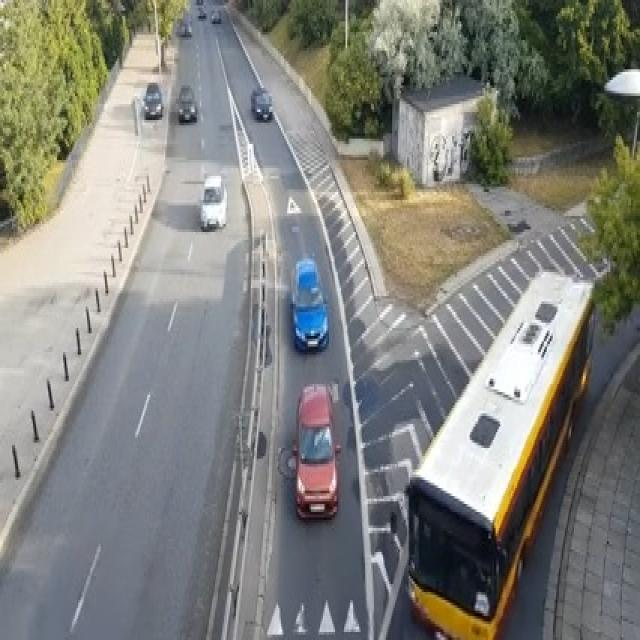bus: (404, 267, 597, 637)
car: (290, 381, 341, 520), (290, 256, 329, 352), (200, 173, 227, 230), (176, 82, 197, 122), (249, 85, 272, 120), (143, 80, 162, 117), (175, 13, 192, 35), (210, 8, 221, 21), (197, 5, 206, 19)
